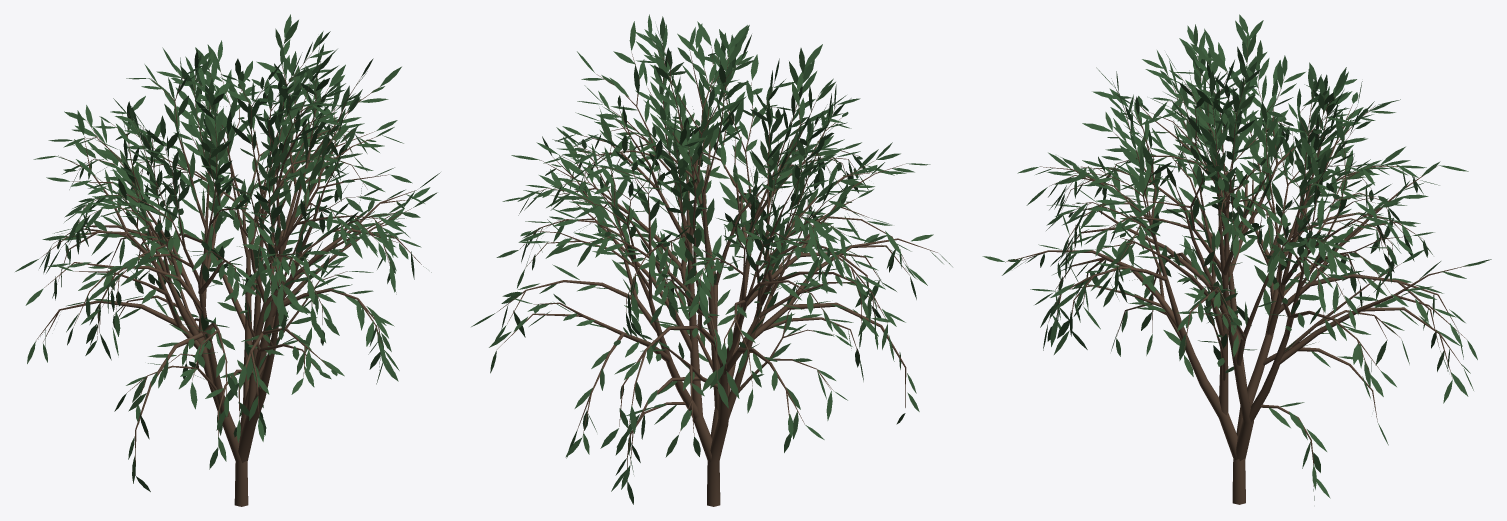
Rendered from Tree_01.fbx.
3 renders of one model, left to right at view 1: azimuth 30°, elevation 25°; view 2: azimuth 150°, elevation 25°; view 3: azimuth 270°, elevation 25°, orthographic.
Parts seen in each view (by area): view 1: leaves, Tree_01; view 2: leaves, Tree_01; view 3: leaves, Tree_01.
Boxes of the visible parts, x1,y1,x2,y2 form: leaves: (15,14,440,491); Tree_01: (36,39,421,506); leaves: (471,14,952,504); Tree_01: (497,38,937,506); leaves: (982,14,1491,500); Tree_01: (1006,38,1469,504).
Bounding box in the file's own units: 589 × 668 × 659.
